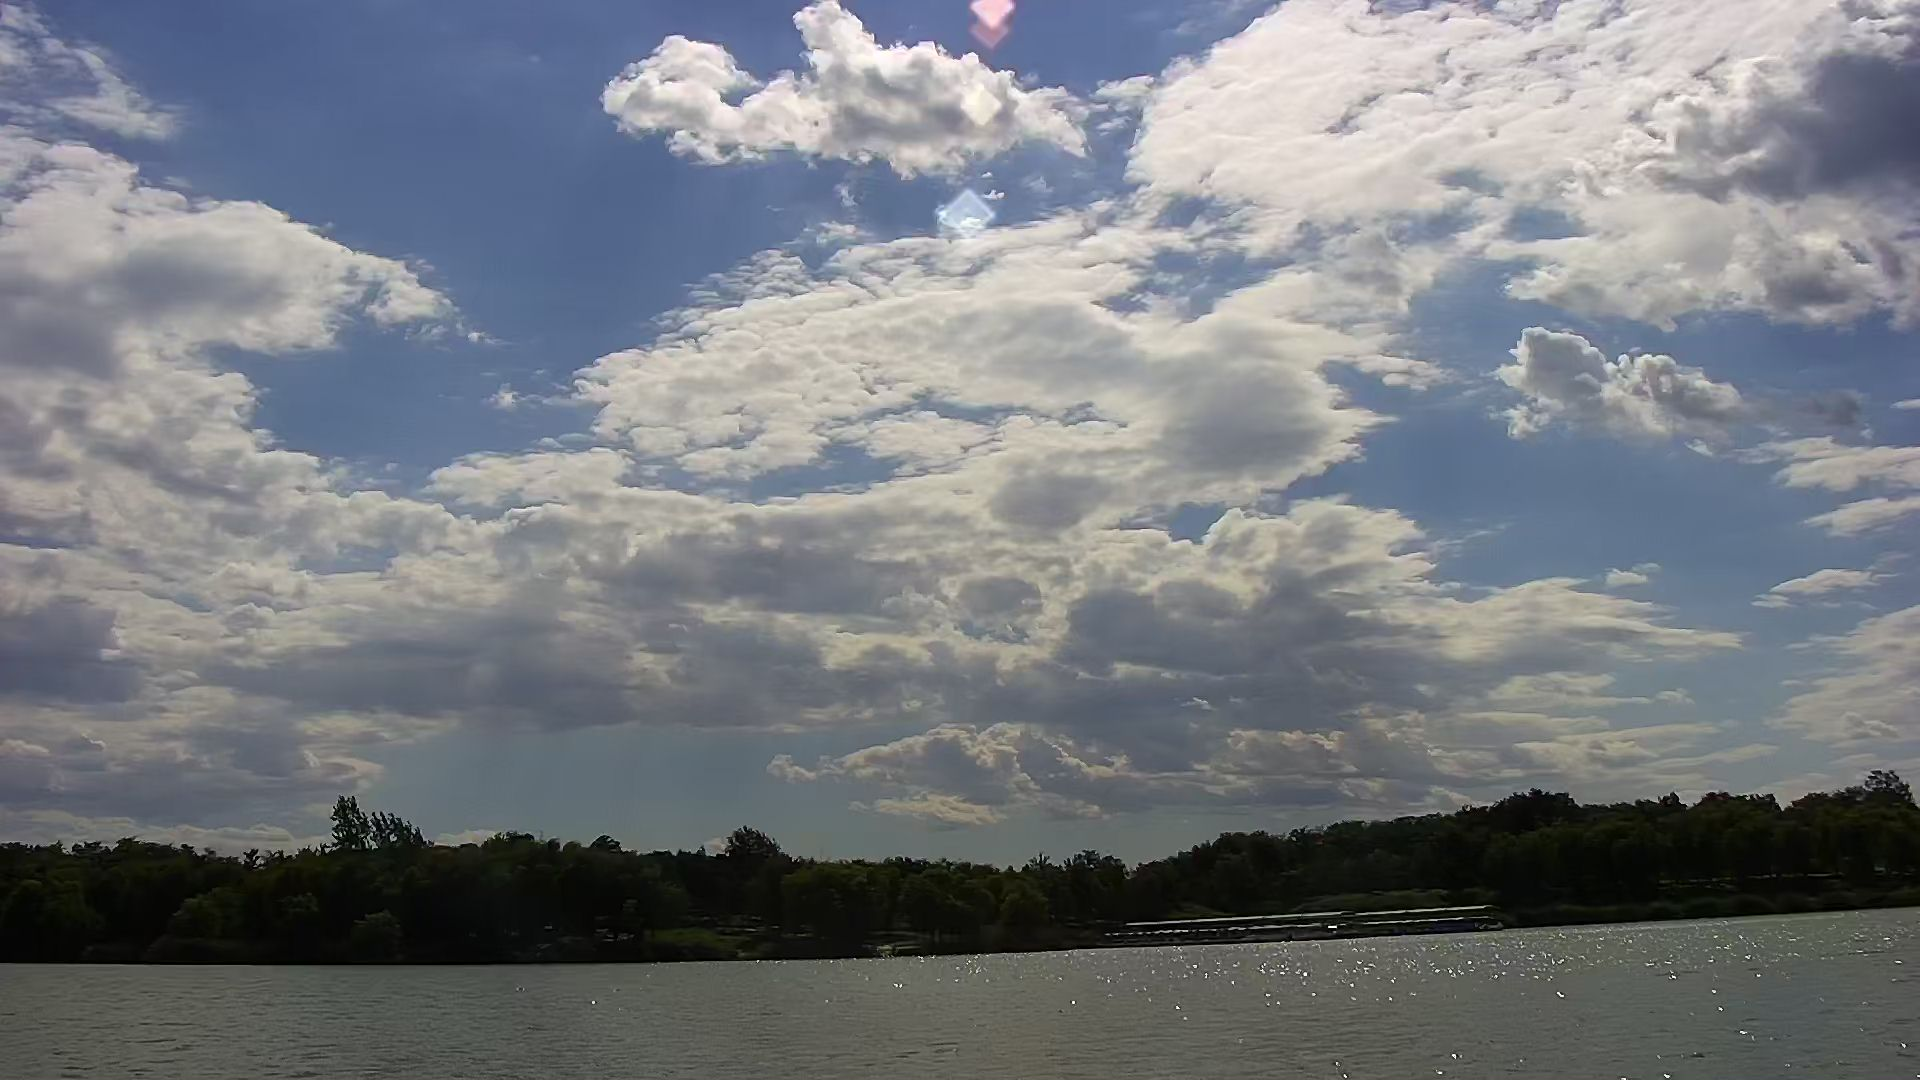harbor: (1097, 893, 1513, 949)
